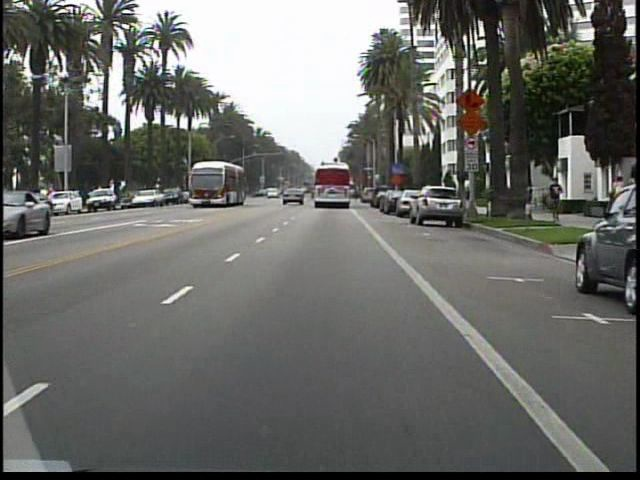person: (606, 170, 628, 220), (545, 174, 565, 228)
